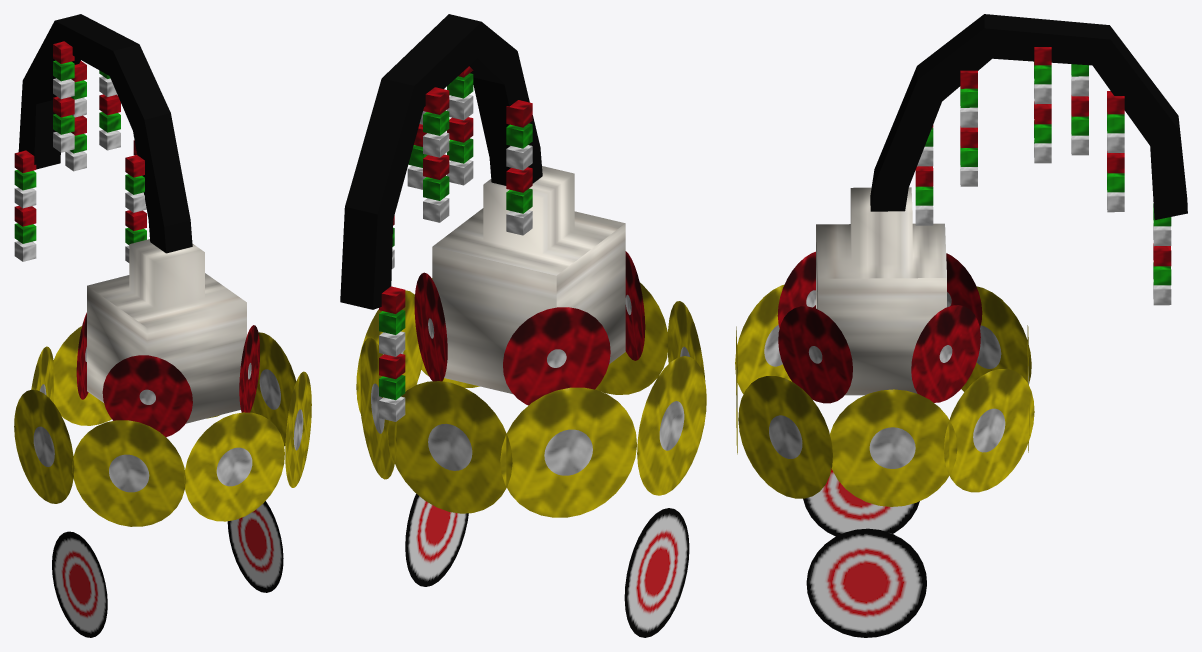
File: helmet_maya_q_2.dae
The picture shows the model from 3 angles, left to right: view 1: azimuth 30°, elevation 25°; view 2: azimuth 150°, elevation 25°; view 3: azimuth 270°, elevation 25°; orthographic projection. The views are drawn at different scales.
Parts seen in each view (by area): view 1: helmet_maya_q_2; view 2: helmet_maya_q_2; view 3: helmet_maya_q_2.
Part boxes in pixels (x1=…): helmet_maya_q_2: x1=14, y1=14, x2=311, y2=637; helmet_maya_q_2: x1=340, y1=14, x2=706, y2=637; helmet_maya_q_2: x1=735, y1=14, x2=1187, y2=637.
Bounding box in the file's own units: 0.6387 × 0.9304 × 1.31.
